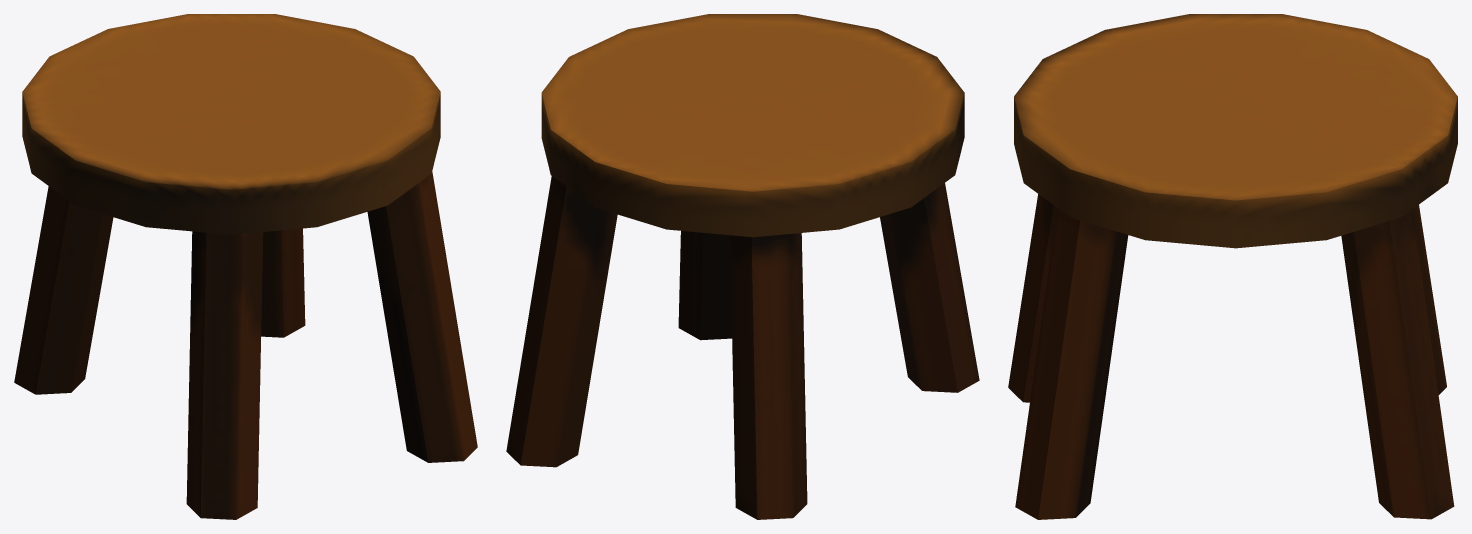
Rendered from Tx_Props_chair_MusicDept.fbx.
3 renders of one model, left to right at view 1: azimuth 30°, elevation 25°; view 2: azimuth 150°, elevation 25°; view 3: azimuth 270°, elevation 25°, orthographic. The views are drawn at different scales.
Visible parts, largest first — view 1: Tx_Props_chair_MusicDept; view 2: Tx_Props_chair_MusicDept; view 3: Tx_Props_chair_MusicDept.
Boxes of the visible parts, bbox=[...] form: Tx_Props_chair_MusicDept: bbox=[14, 14, 477, 519]; Tx_Props_chair_MusicDept: bbox=[506, 14, 979, 519]; Tx_Props_chair_MusicDept: bbox=[1008, 14, 1457, 519].
Size of the model in its own units: 2.69 by 2.25 by 2.74.
